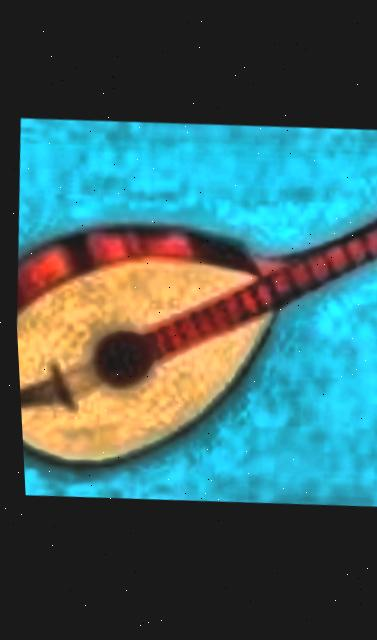El Bandolon: (5, 108, 377, 520)
